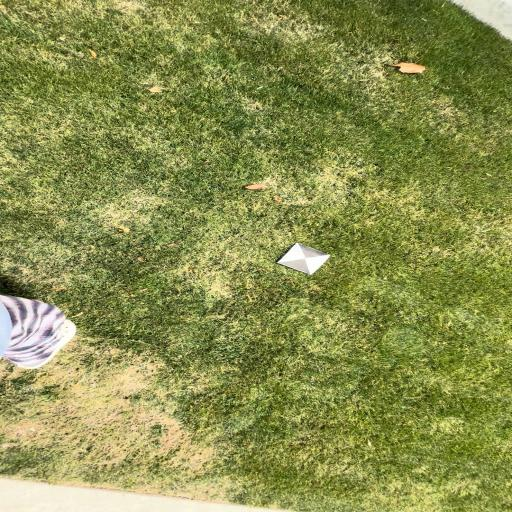target: (276, 243, 332, 274)
